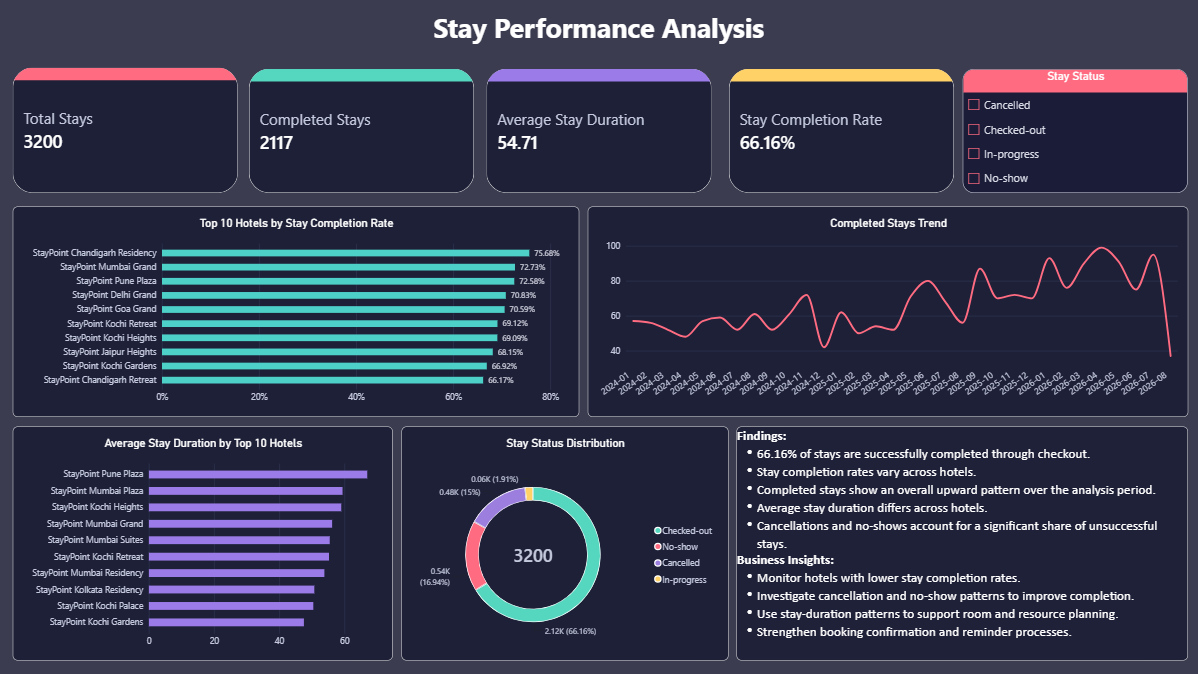

This screenshot's page, from the dashboard's own definition file:
{"tool":"powerbi","page":{"name":"5.3","canvas":[1920,1080],"ordinal":3},"visuals":[{"type":"cardVisual","title":"Completed Stays","fields":{"Data":["stays.Completed Stays"]},"box":[399.5,112.5,360.1,198.8],"z":0},{"type":"cardVisual","title":"Stay Completion Rate","fields":{"Data":["stays.Stay Completion Rate"]},"box":[1168.4,112.5,360.1,198.8],"z":1000},{"type":"cardVisual","title":"Average Stay Duration","fields":{"Data":["stays.Average Stay Duration"]},"box":[780.2,112.5,360.1,198.8],"z":2000},{"type":"clusteredBarChart","title":"Top 10 Hotels by Stay Completion Rate","fields":{"Category":["hotels.hotel_name"],"Y":["stays.Stay Completion Rate"]},"box":[21.7,333,906.6,336.6],"z":3000},{"type":"donutChart","title":"Stay Status Distribution","fields":{"Category":["stays.status"],"Y":["CountNonNull(stays.stay_id)"]},"box":[644.2,684.1,523,374.6],"z":4000},{"type":"clusteredBarChart","title":"Average Stay Duration by Top 10 Hotels","fields":{"Category":["hotels.hotel_name"],"Y":["stays.Average Stay Duration"]},"box":[21.7,684.1,608,374.6],"z":5000},{"type":"lineChart","title":"Completed Stays Trend","fields":{"Category":["DateTable.Year Month"],"Y":["stays.Completed Stays"]},"box":[941,333,960.9,336.6],"z":6000},{"type":"textbox","box":[1179.9,684.1,722.1,374.6],"z":7000},{"type":"textbox","box":[521.9,16.7,874.8,59.4],"z":8000},{"type":"cardVisual","title":"Total Bookings","fields":{"Data":["stays.Total Stays"]},"box":[22.5,110.6,360.1,200.7],"z":9000},{"type":"slicer","title":"Stay Status","fields":{"Values":["stays.status"]},"box":[1541.6,112.5,360.1,198.8],"z":10000}]}

Visuals, with their boxes in screenshot pixels (x1, y1, x2, y2), scaled from the page's 1920x1080 canvas onto the 1198x674 screenshot:
"Completed Stays" cardVisual: 249,70,474,194
"Stay Completion Rate" cardVisual: 729,70,954,194
"Average Stay Duration" cardVisual: 487,70,711,194
"Top 10 Hotels by Stay Completion Rate" clusteredBarChart: 14,208,579,418
"Stay Status Distribution" donutChart: 402,427,728,661
"Average Stay Duration by Top 10 Hotels" clusteredBarChart: 14,427,393,661
"Completed Stays Trend" lineChart: 587,208,1187,418
textbox: 736,427,1187,661
textbox: 326,10,871,47
"Total Bookings" cardVisual: 14,69,239,194
"Stay Status" slicer: 962,70,1187,194
